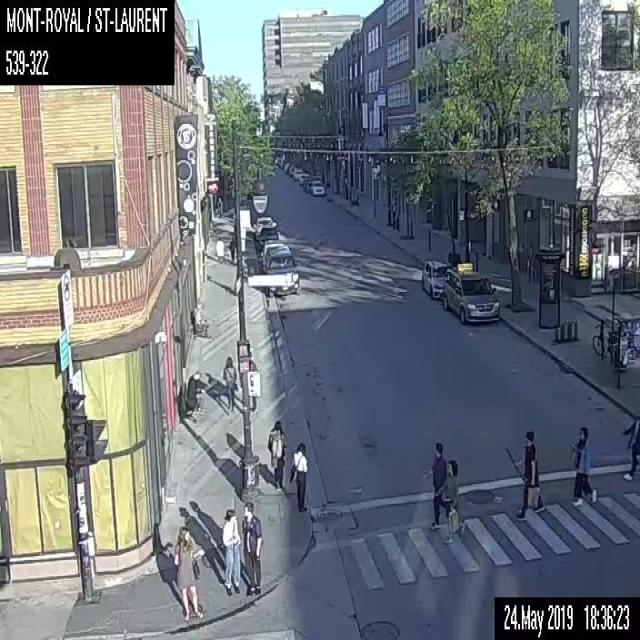pedestrian: (503, 426, 545, 522), (173, 526, 206, 622), (569, 423, 599, 508), (420, 437, 446, 530), (434, 457, 462, 542), (241, 499, 262, 595), (221, 507, 240, 592), (288, 440, 309, 513), (266, 418, 286, 491), (621, 414, 639, 482), (222, 353, 238, 412), (228, 235, 235, 261)
vehicle: (442, 262, 500, 323), (262, 243, 298, 295), (421, 258, 452, 299), (260, 237, 284, 259), (253, 214, 275, 237), (257, 225, 278, 248), (302, 175, 320, 191), (309, 179, 325, 195), (297, 172, 308, 183), (293, 168, 304, 179), (278, 158, 286, 168), (284, 162, 292, 172), (288, 165, 296, 174), (274, 155, 281, 164)
